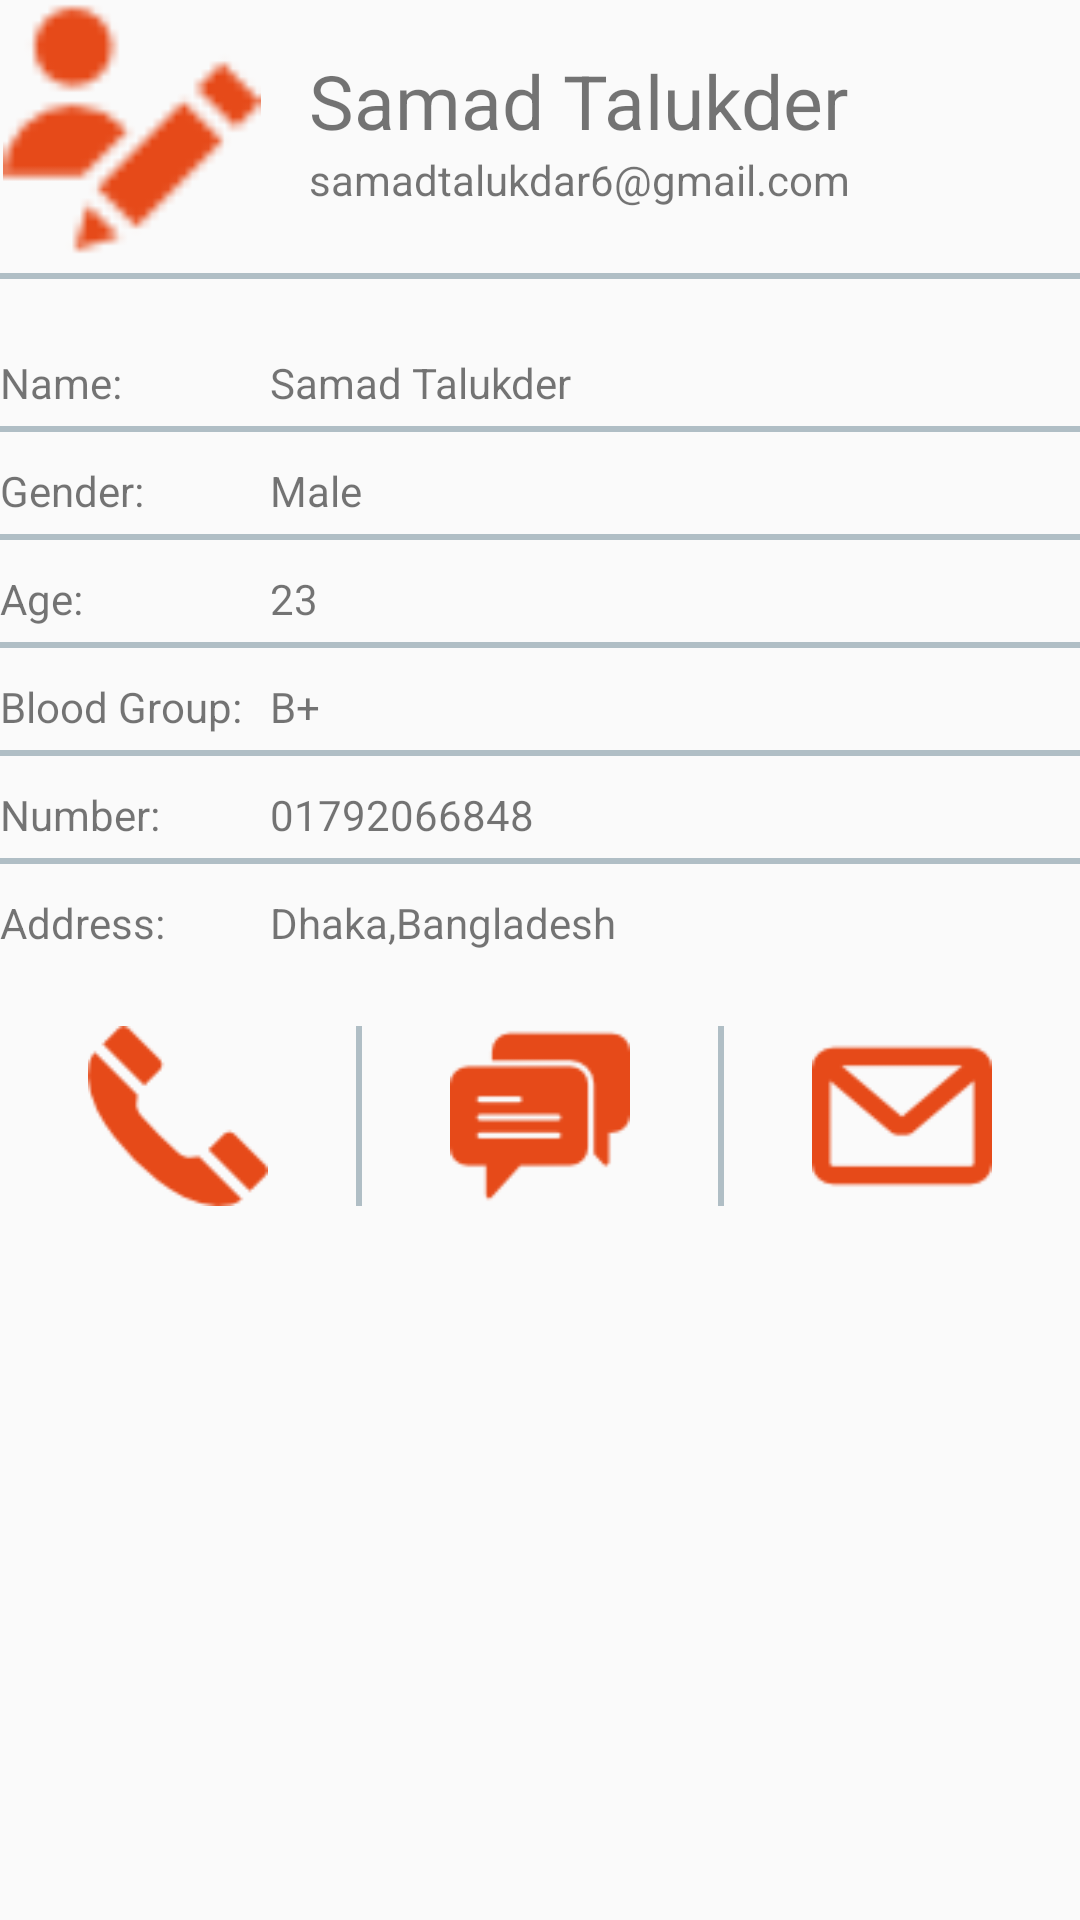

Icon click points for this 1080*1920 phone screenshot, format (x=x, y=y):
call: (x=178, y=1116)
email: (x=902, y=1116)
profile edit: (x=132, y=129)
